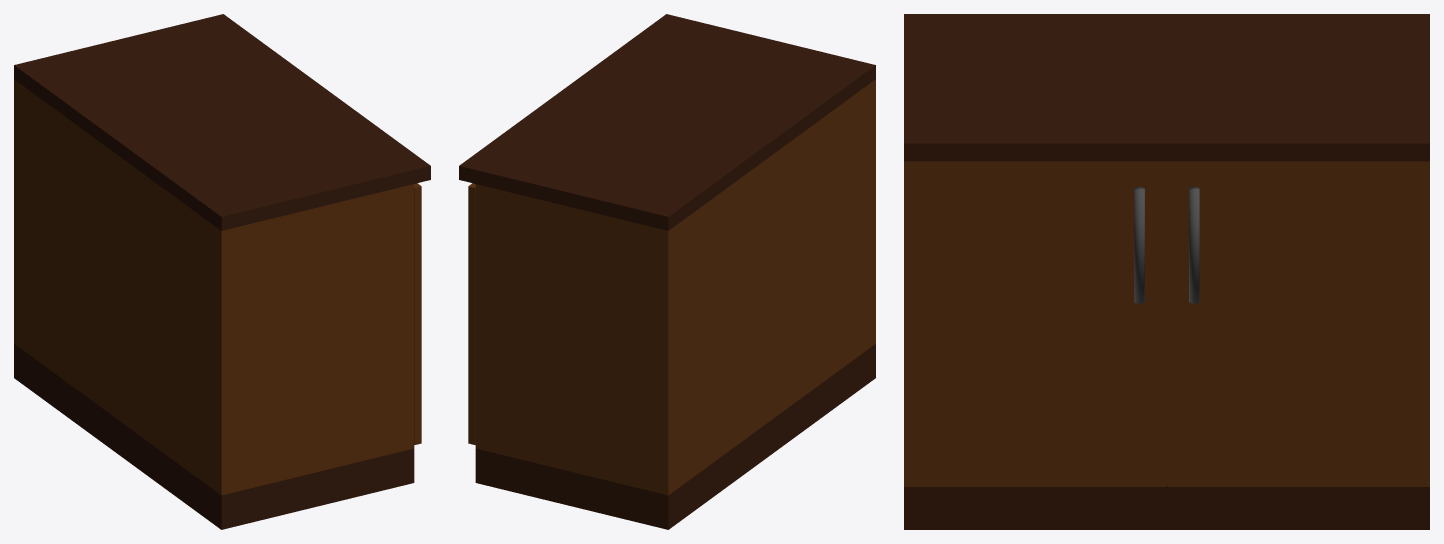
The model's file is mesa-cocina-2.fbx.
The picture shows the model from 3 angles, left to right: view 1: azimuth 30°, elevation 25°; view 2: azimuth 150°, elevation 25°; view 3: azimuth 270°, elevation 25°; orthographic projection. The views are drawn at different scales.
Parts seen in each view (by area): view 1: Base, Puerta1; view 2: Base, Puerta2; view 3: Base, Puerta1, Puerta2.
Boxes of the visible parts, left/top/right/bottom form: Base: left=14, top=14, right=430, bottom=529; Puerta1: left=414, top=183, right=421, bottom=444; Base: left=459, top=14, right=875, bottom=529; Puerta2: left=468, top=183, right=475, bottom=444; Base: left=904, top=14, right=1429, bottom=529; Puerta1: left=904, top=161, right=1165, bottom=486; Puerta2: left=1168, top=161, right=1429, bottom=486.
Size of the model in its own units: 61.94 by 85.53 by 103.
